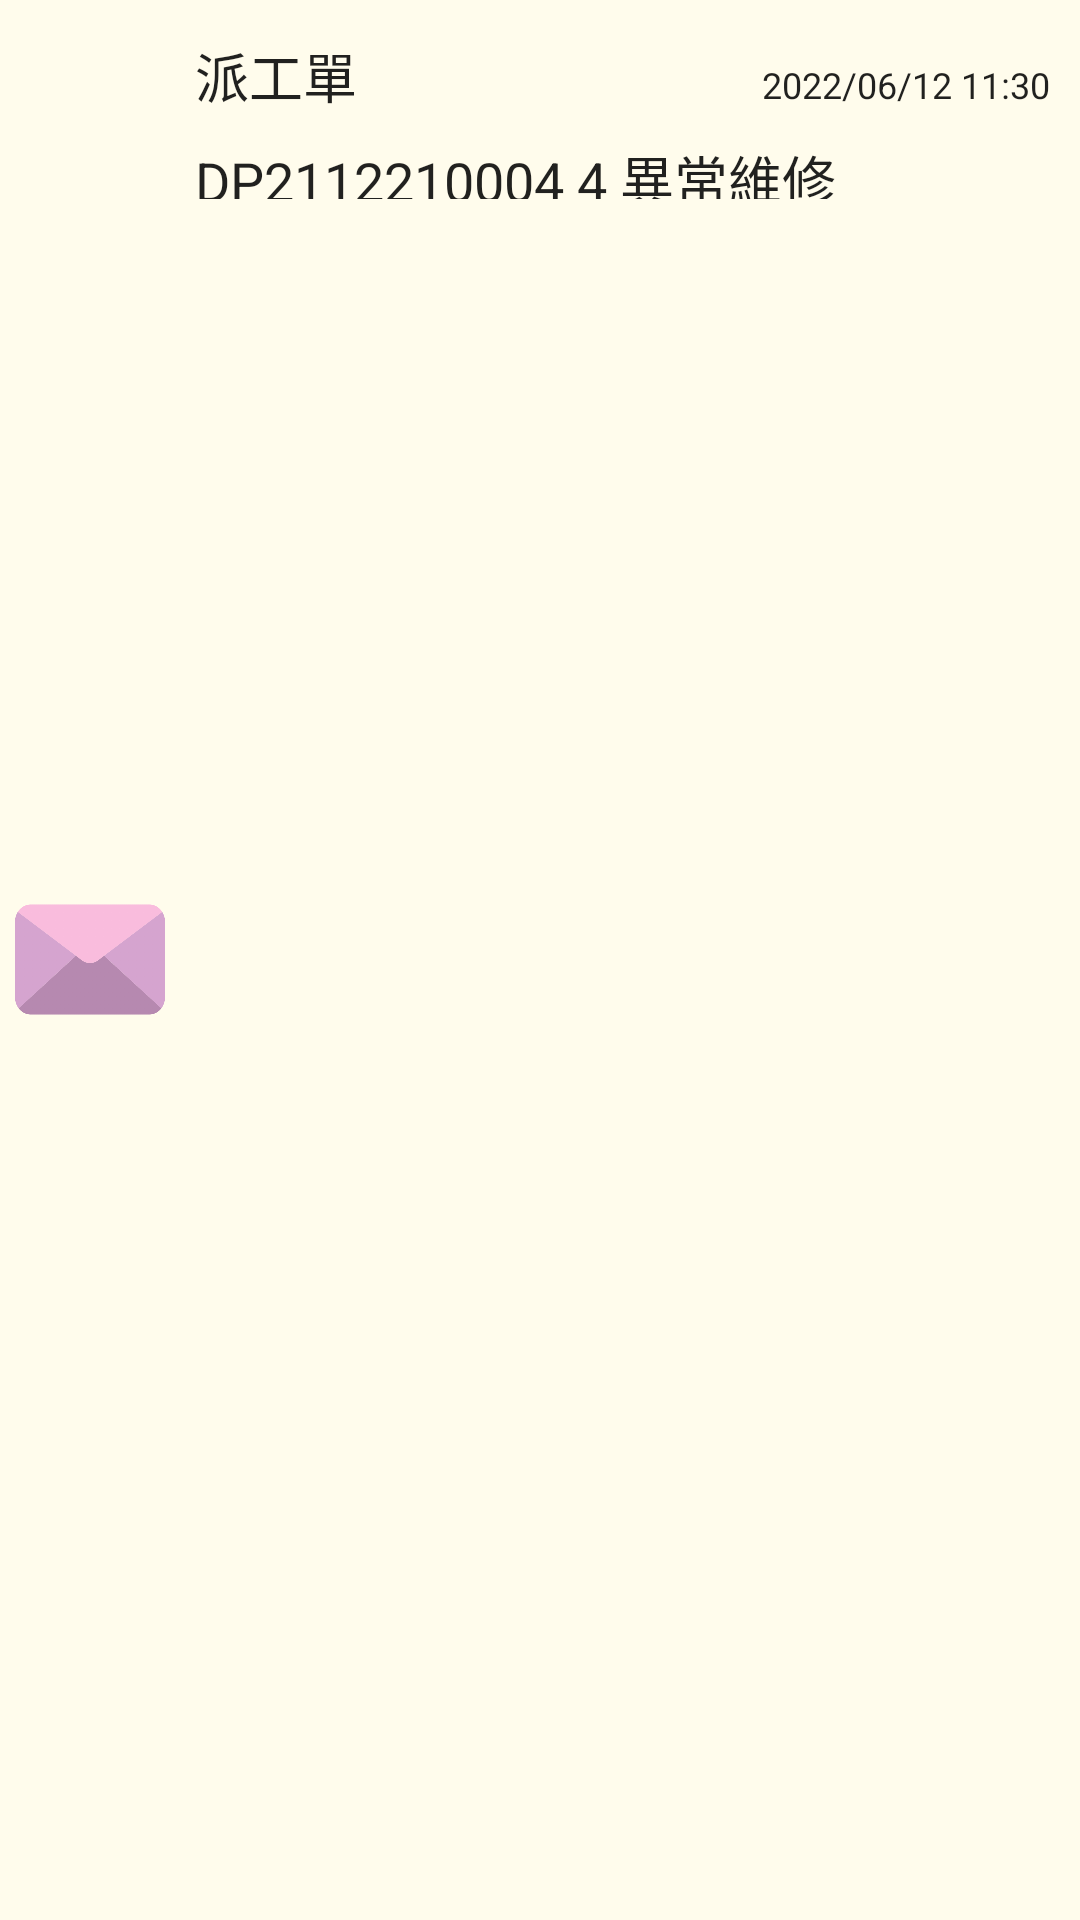

Where to tap for icons on this 1080x1920 app screen, as (x,y):
email: (90,959)
